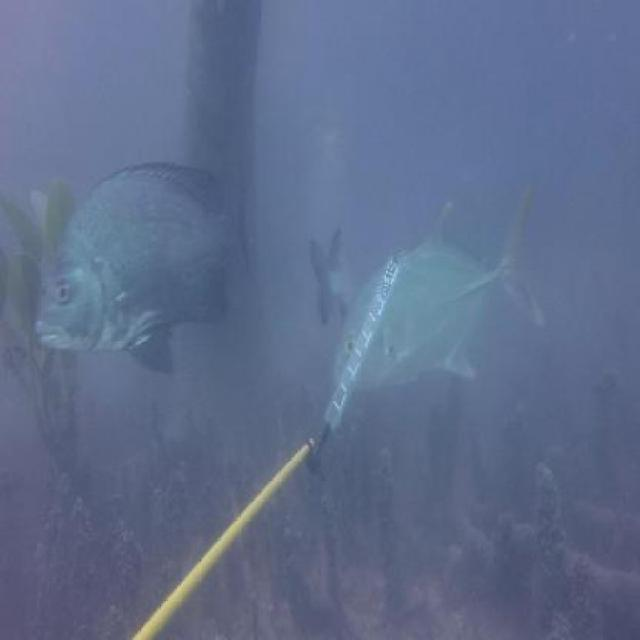Caranx: (343, 176, 557, 392)
acanthopagrus_palmaris: (35, 145, 250, 377), (301, 220, 353, 329)
